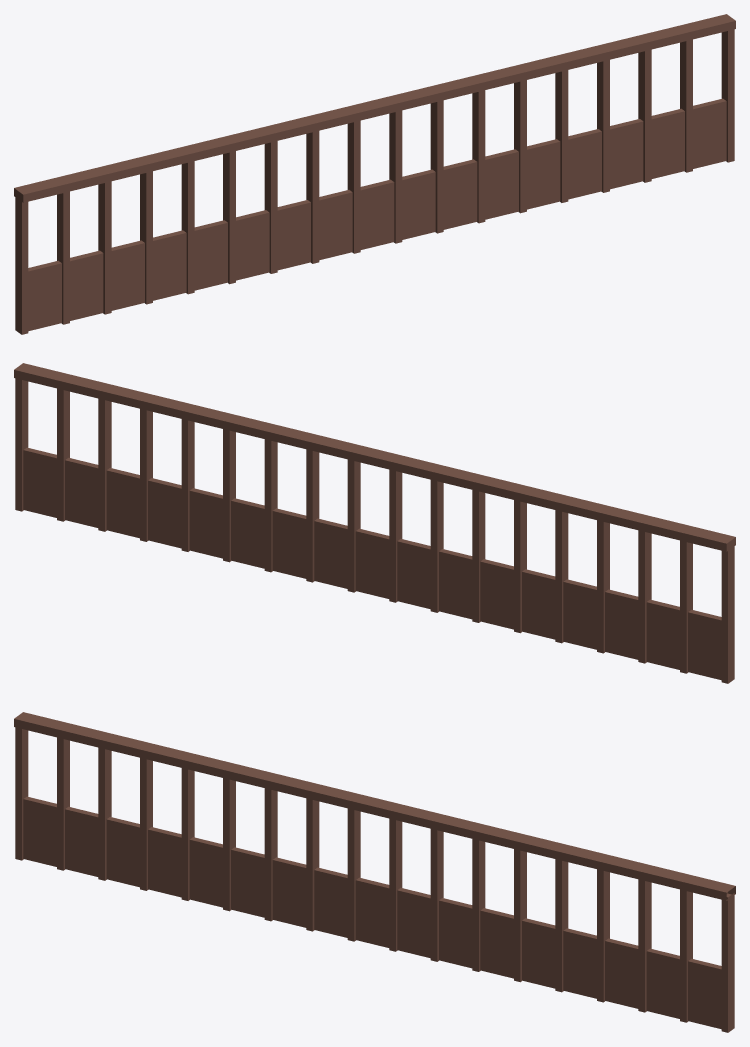
The model's file is ladder_009.fbx.
3 renders of one model, top to bottom at view 1: azimuth 30°, elevation 25°; view 2: azimuth 150°, elevation 25°; view 3: azimuth 330°, elevation 25°, orthographic.
Visible parts, largest first — view 1: ladder_009; view 2: ladder_009; view 3: ladder_009.
Part boxes in pixels (x1,y1,x2,y2): ladder_009: (14, 14, 735, 334); ladder_009: (14, 363, 735, 683); ladder_009: (14, 712, 735, 1032).
Bounding box in the file's own units: 400 × 8.98 × 75.74.
